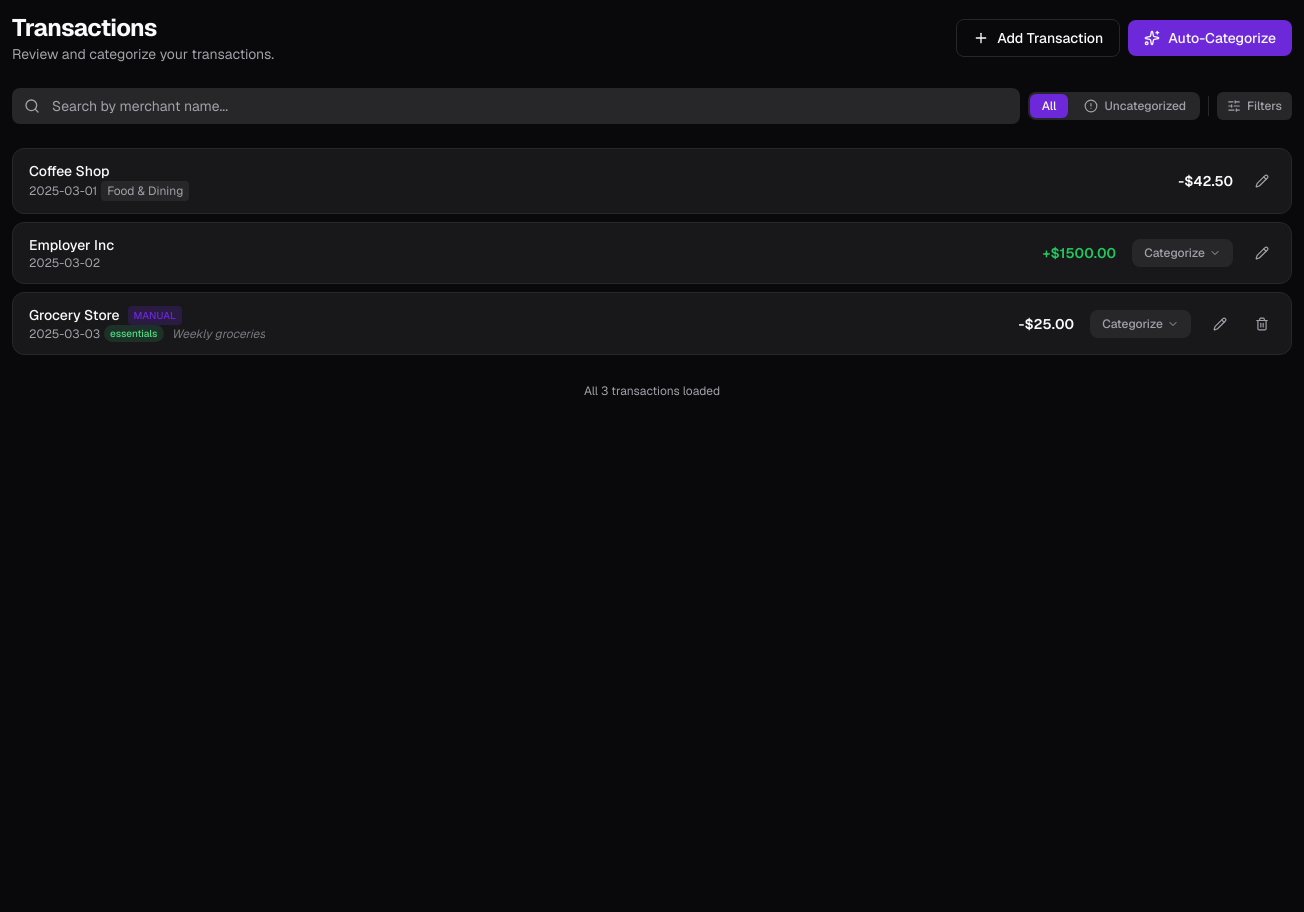
Test: TransactionsPage › dismiss button hides the rule suggestion
Check: the text "Employer Inc" is shown, box [29, 235, 114, 255]
What coordinates should you click on to do the following:
click the button "Categorize" next to "$1500.00"
I would click on:
 (1183, 253)
Its box is [1132, 239, 1233, 267].
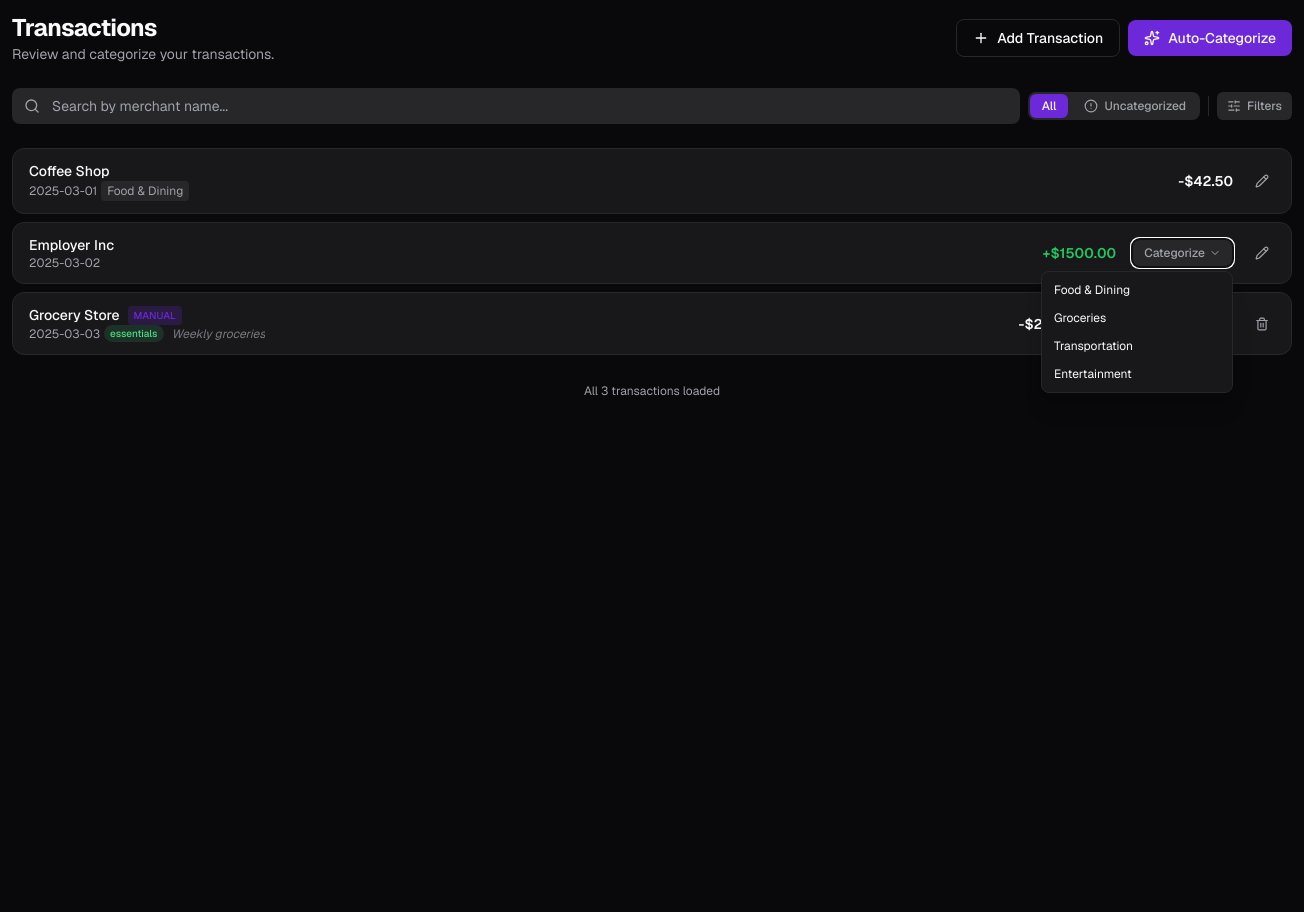
What coordinates should you click on to do the following:
click the button "Transportation"
I would click on:
 (1137, 346)
Its box is [1042, 332, 1232, 360].
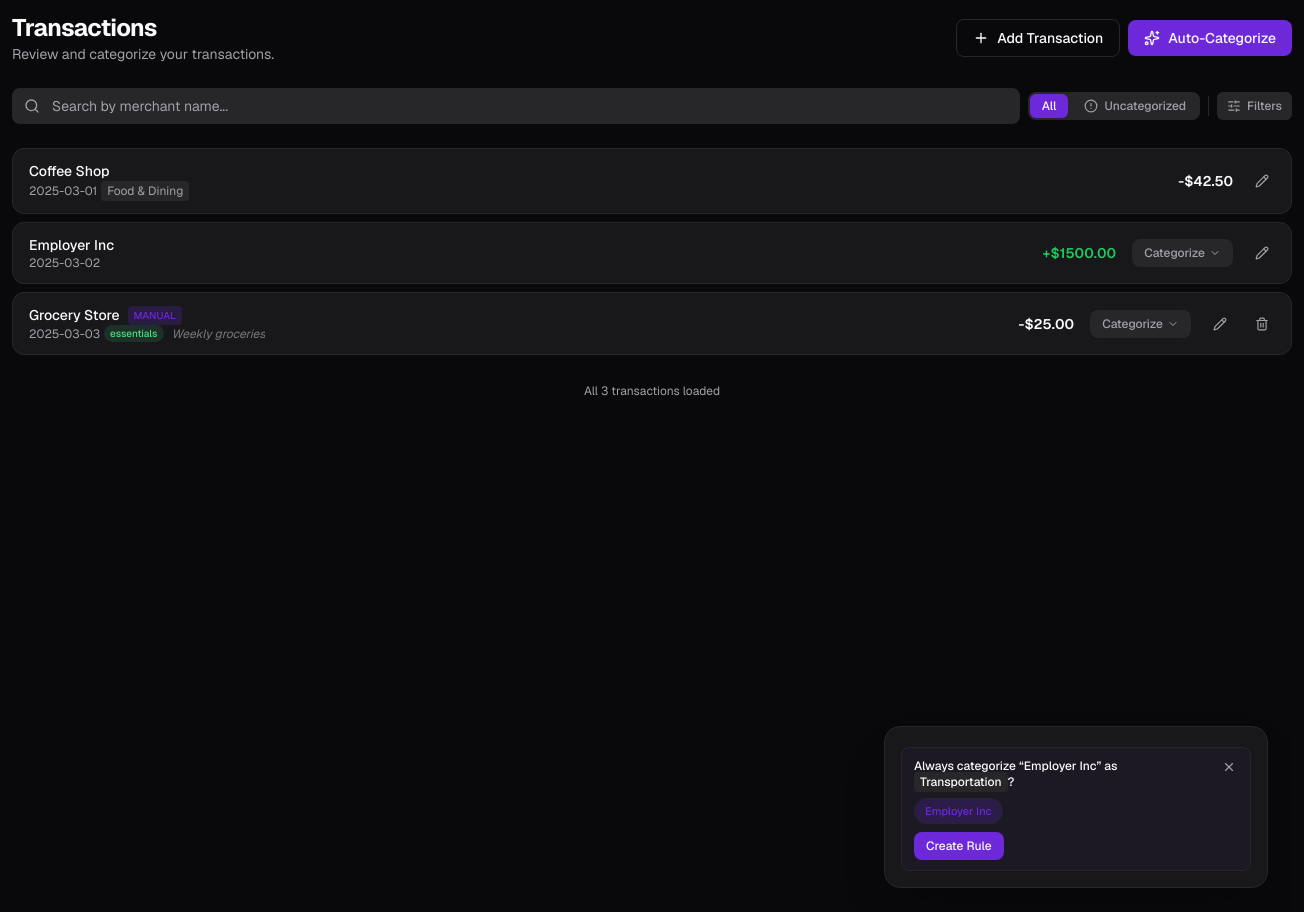
Check: the text "Always categorize “Employer Inc” as Transportation?" is shown, box [914, 758, 1117, 792]
What coordinates should you click on to do the following:
click the button named "Dismiss rule suggestion"
I would click on:
 (1229, 766)
Its box is [1220, 758, 1238, 776].
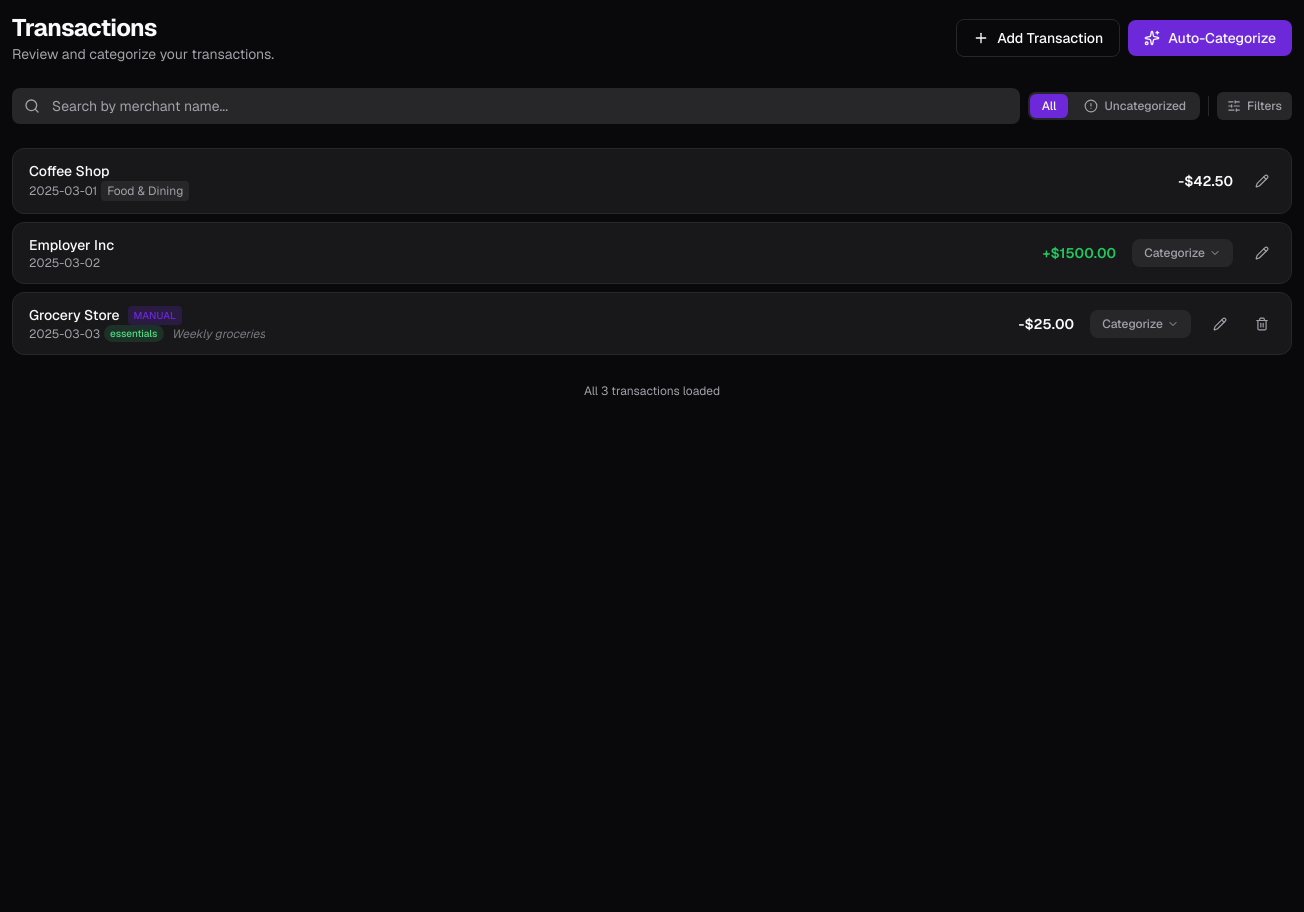
Check: the text "Always categorize" is gone
